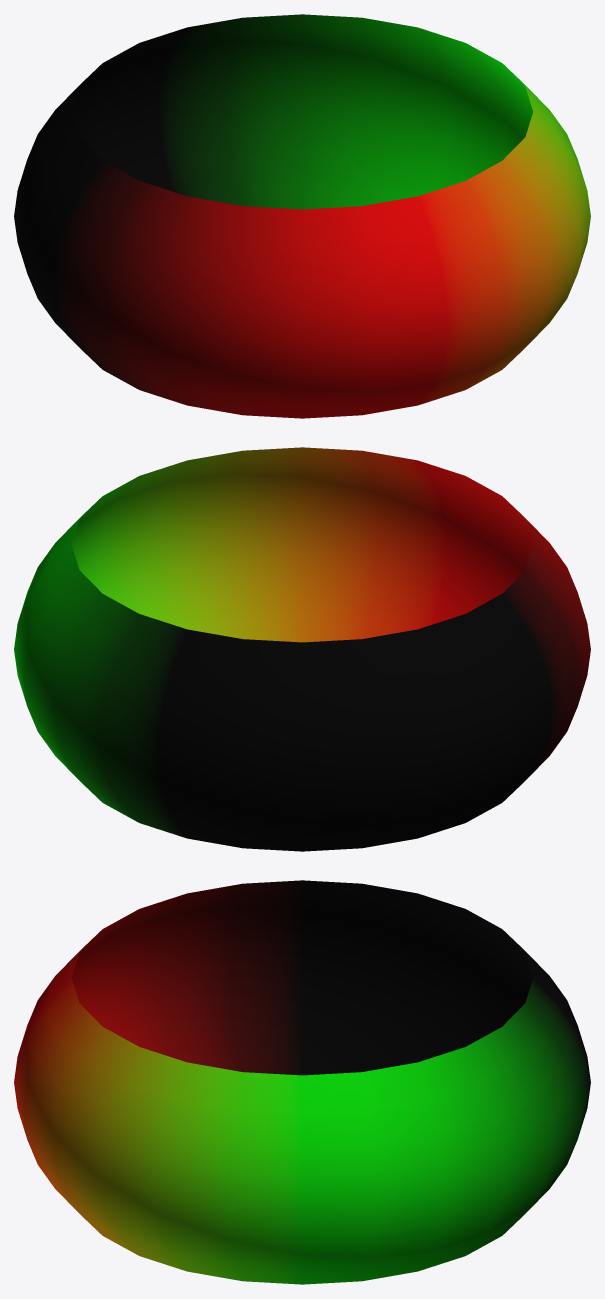
Rendered from uni_tire.fbx.
The picture shows the model from 3 angles, top to bottom: view 1: azimuth 30°, elevation 25°; view 2: azimuth 150°, elevation 25°; view 3: azimuth 270°, elevation 25°; orthographic projection.
Visible parts, largest first — view 1: uni_tire; view 2: uni_tire; view 3: uni_tire.
Part boxes in pixels (x1,y1,x2,y2): uni_tire: (14,14,590,418); uni_tire: (14,447,590,851); uni_tire: (14,880,590,1284).
Bounding box in the file's own units: 16001 × 16001 × 6400.
